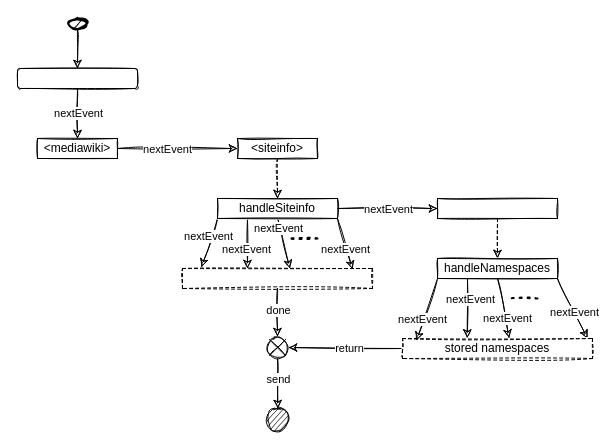
The diagram is 616 pixels wide and 448 high, and some of its shapes have lost their labels. Each missing label, with the box of its shape:
<namespaces>: (436, 198, 558, 218)
new xml event reader: (16, 68, 138, 88)
stored siteinfo: (182, 268, 372, 288)
